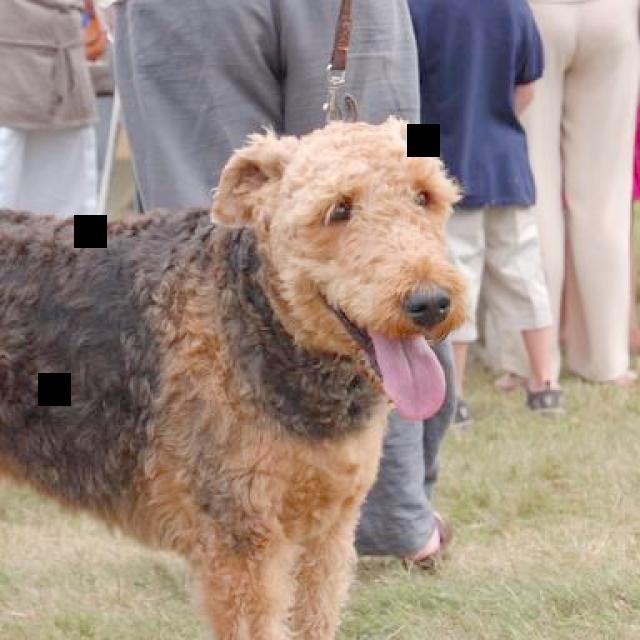adult_dog: (1, 113, 474, 640)
